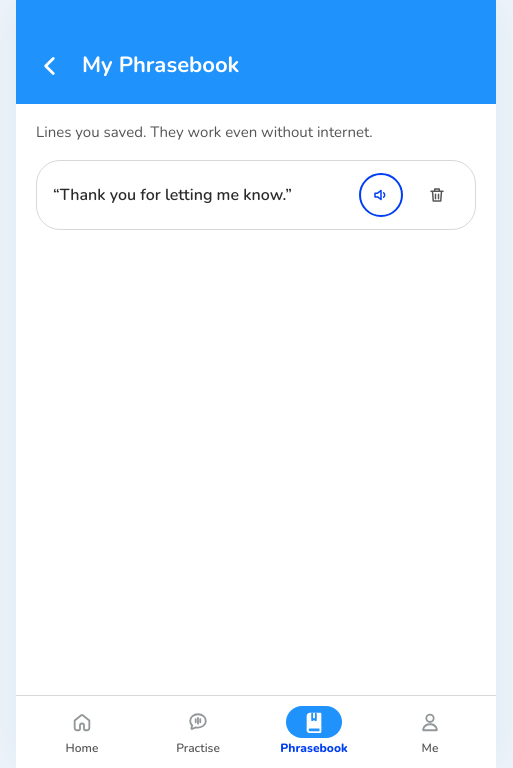
Test case: Phrasebook › lists saved lines and removes them
Check: the text "“Thank you for letting me know.”" is shown, box [53,184,292,206]
Click the button named "Remove: Thank you for letting me know.".
click(437, 195)  # box [415,173,459,217]
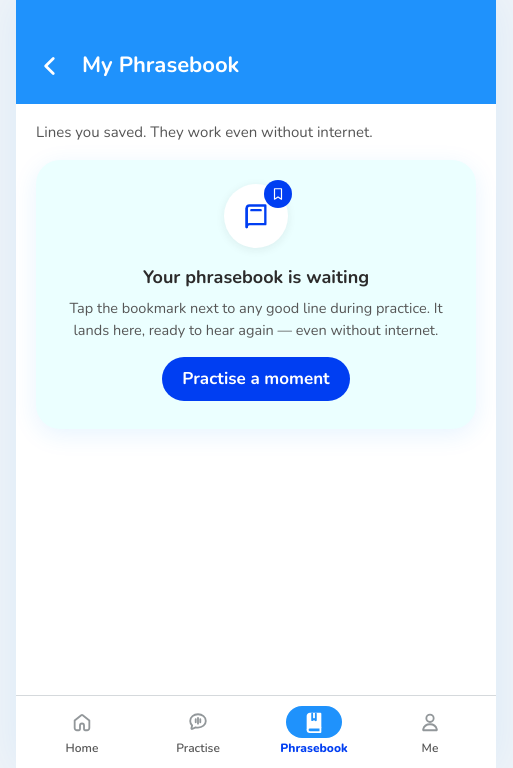
Check: the heading "Your phrasebook is waiting" is shown, box [143,264,369,291]
